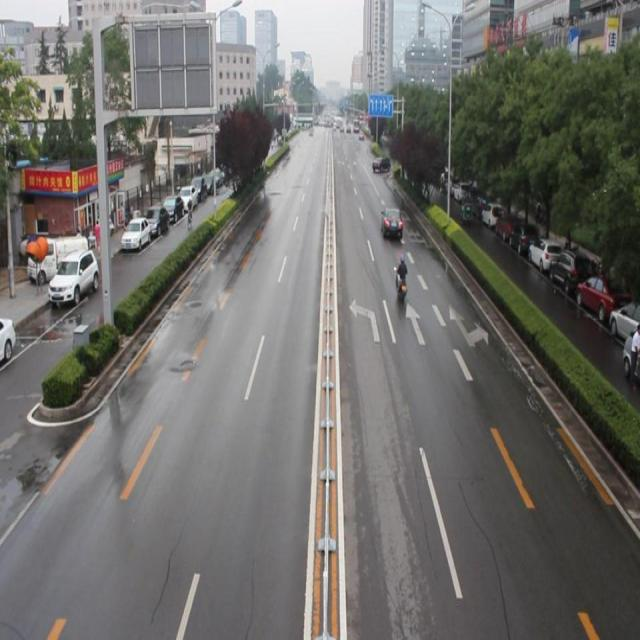car: (380, 205, 402, 237), (371, 156, 390, 171)
